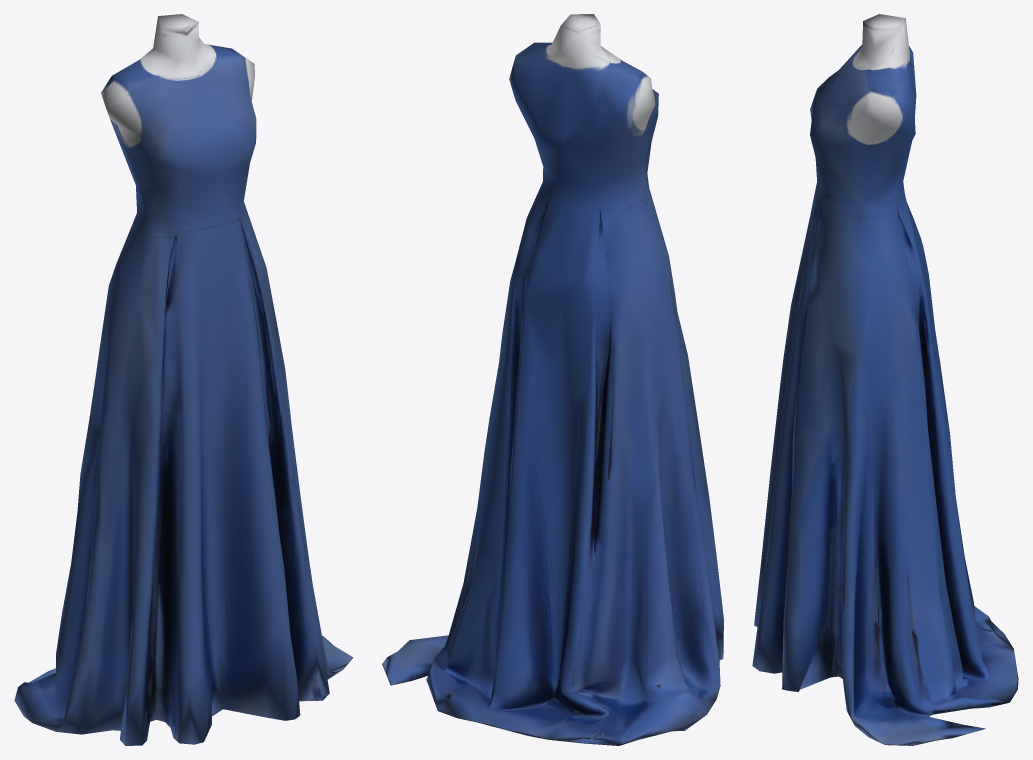
File: Meshy_AI_Royal_Blue_Satin_Gown_0403034647_texture.fbx
3 views of the same model, side by side, from view 1: azimuth 30°, elevation 25°; view 2: azimuth 150°, elevation 25°; view 3: azimuth 270°, elevation 25° (orthographic). The views are drawn at different scales.
Visible parts, largest first — view 1: Mesh_0; view 2: Mesh_0; view 3: Mesh_0.
Part boxes in pixels (<box>): Mesh_0: <box>14,14,353,745</box>; Mesh_0: <box>382,14,723,745</box>; Mesh_0: <box>752,14,1018,745</box>.
Size of the model in its own units: 96.33 by 200 by 74.92.
Materials: 1 (1 with a texture image).
